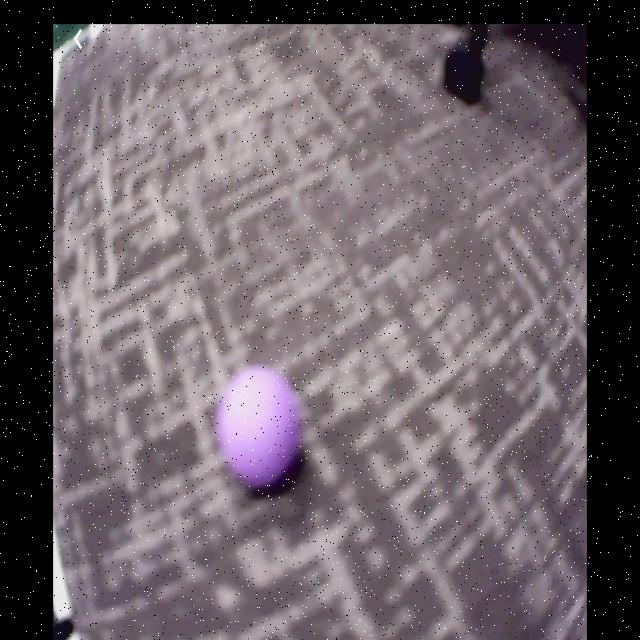ball: (219, 367, 302, 492)
